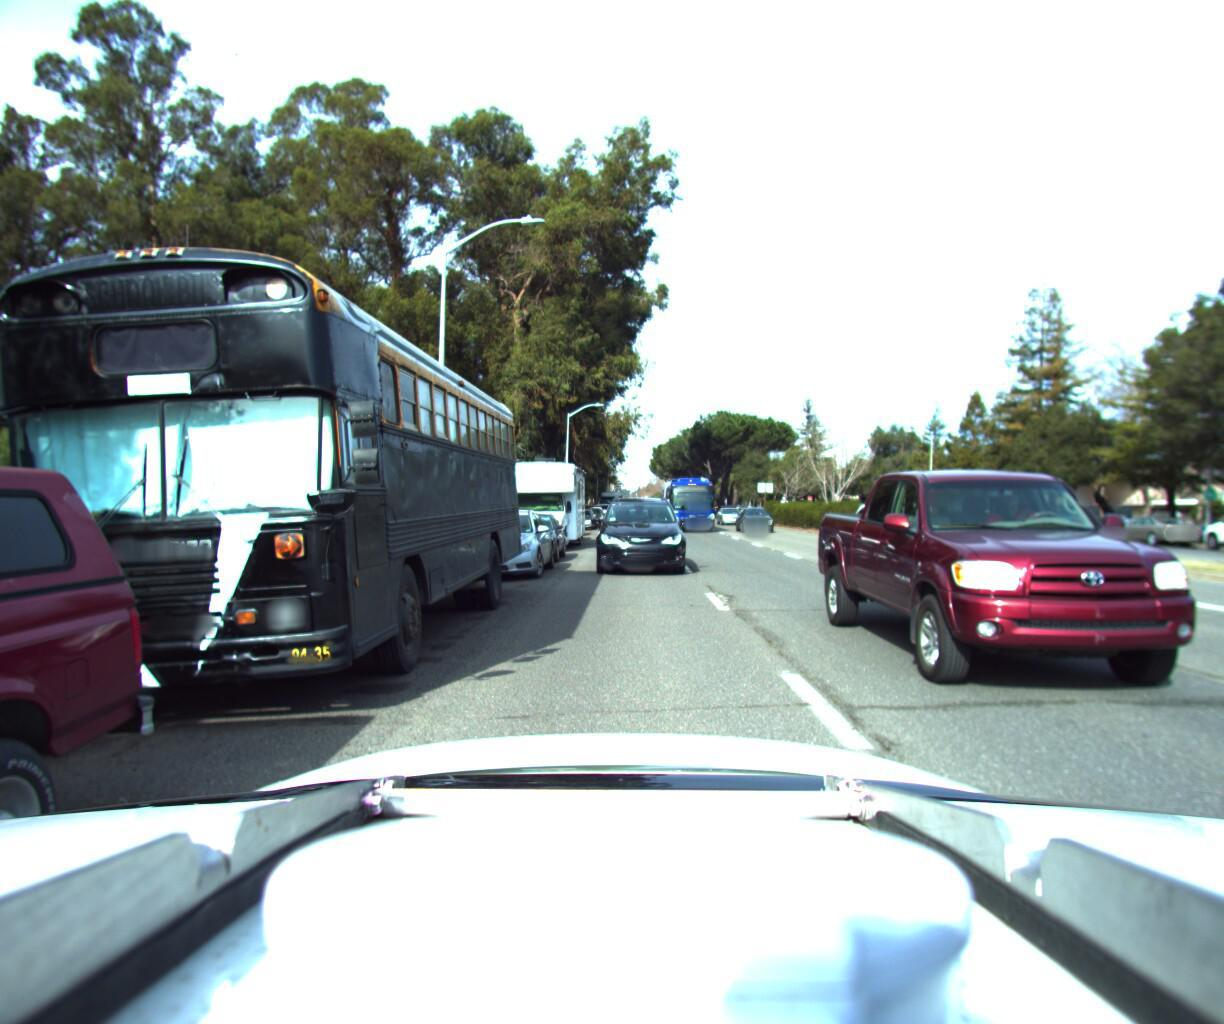bus: (0, 218, 527, 744), (659, 472, 717, 530)
car: (810, 450, 1224, 722), (442, 501, 557, 582), (586, 488, 681, 576), (486, 504, 568, 562), (1106, 507, 1205, 543), (1043, 505, 1121, 537), (1191, 501, 1224, 554), (730, 495, 776, 527), (714, 507, 747, 534), (566, 501, 598, 525), (624, 490, 651, 514), (591, 495, 613, 516)
other_vehicle: (483, 445, 587, 550)
